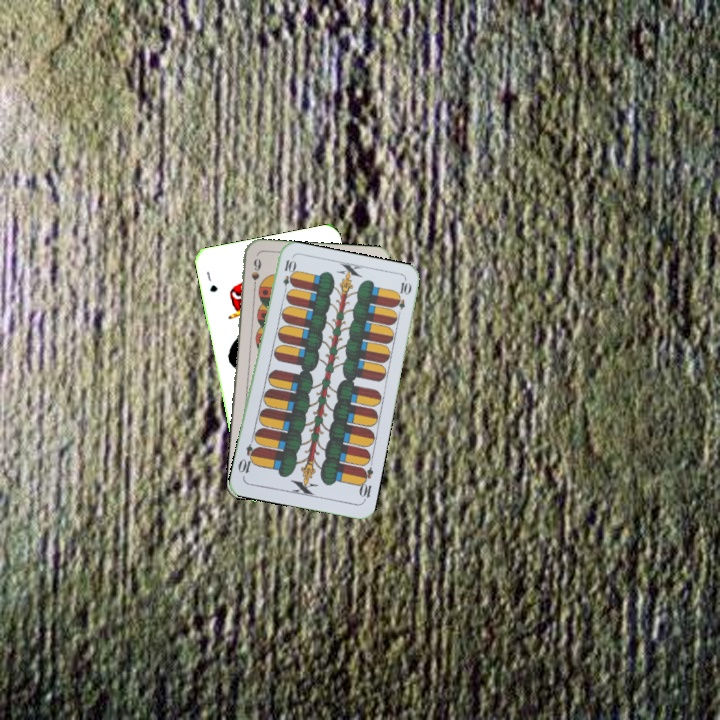E10: (355, 464, 376, 504), (279, 256, 296, 296)
GU: (202, 267, 220, 294)
S9: (248, 254, 264, 294)
